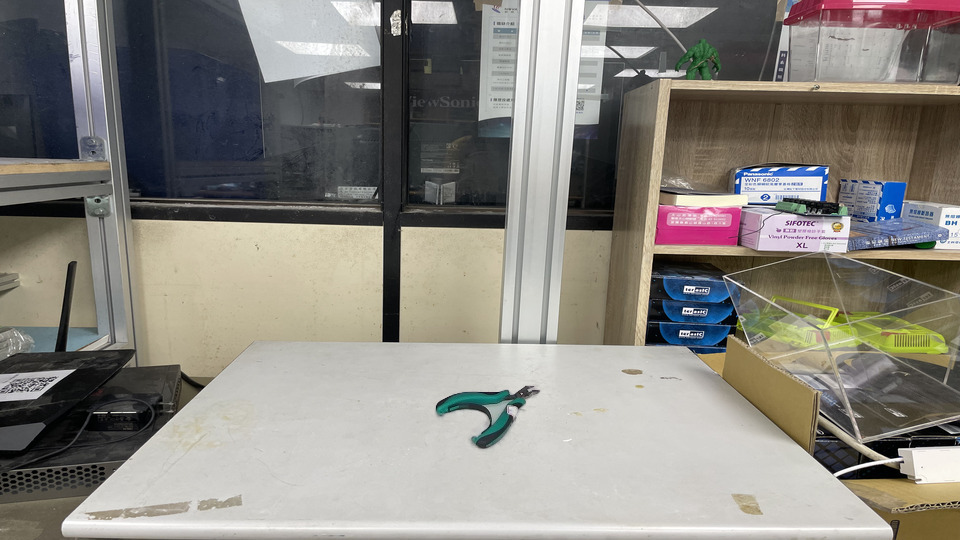blade: (253, 391, 355, 424)
round_grasp: (353, 366, 431, 411)
